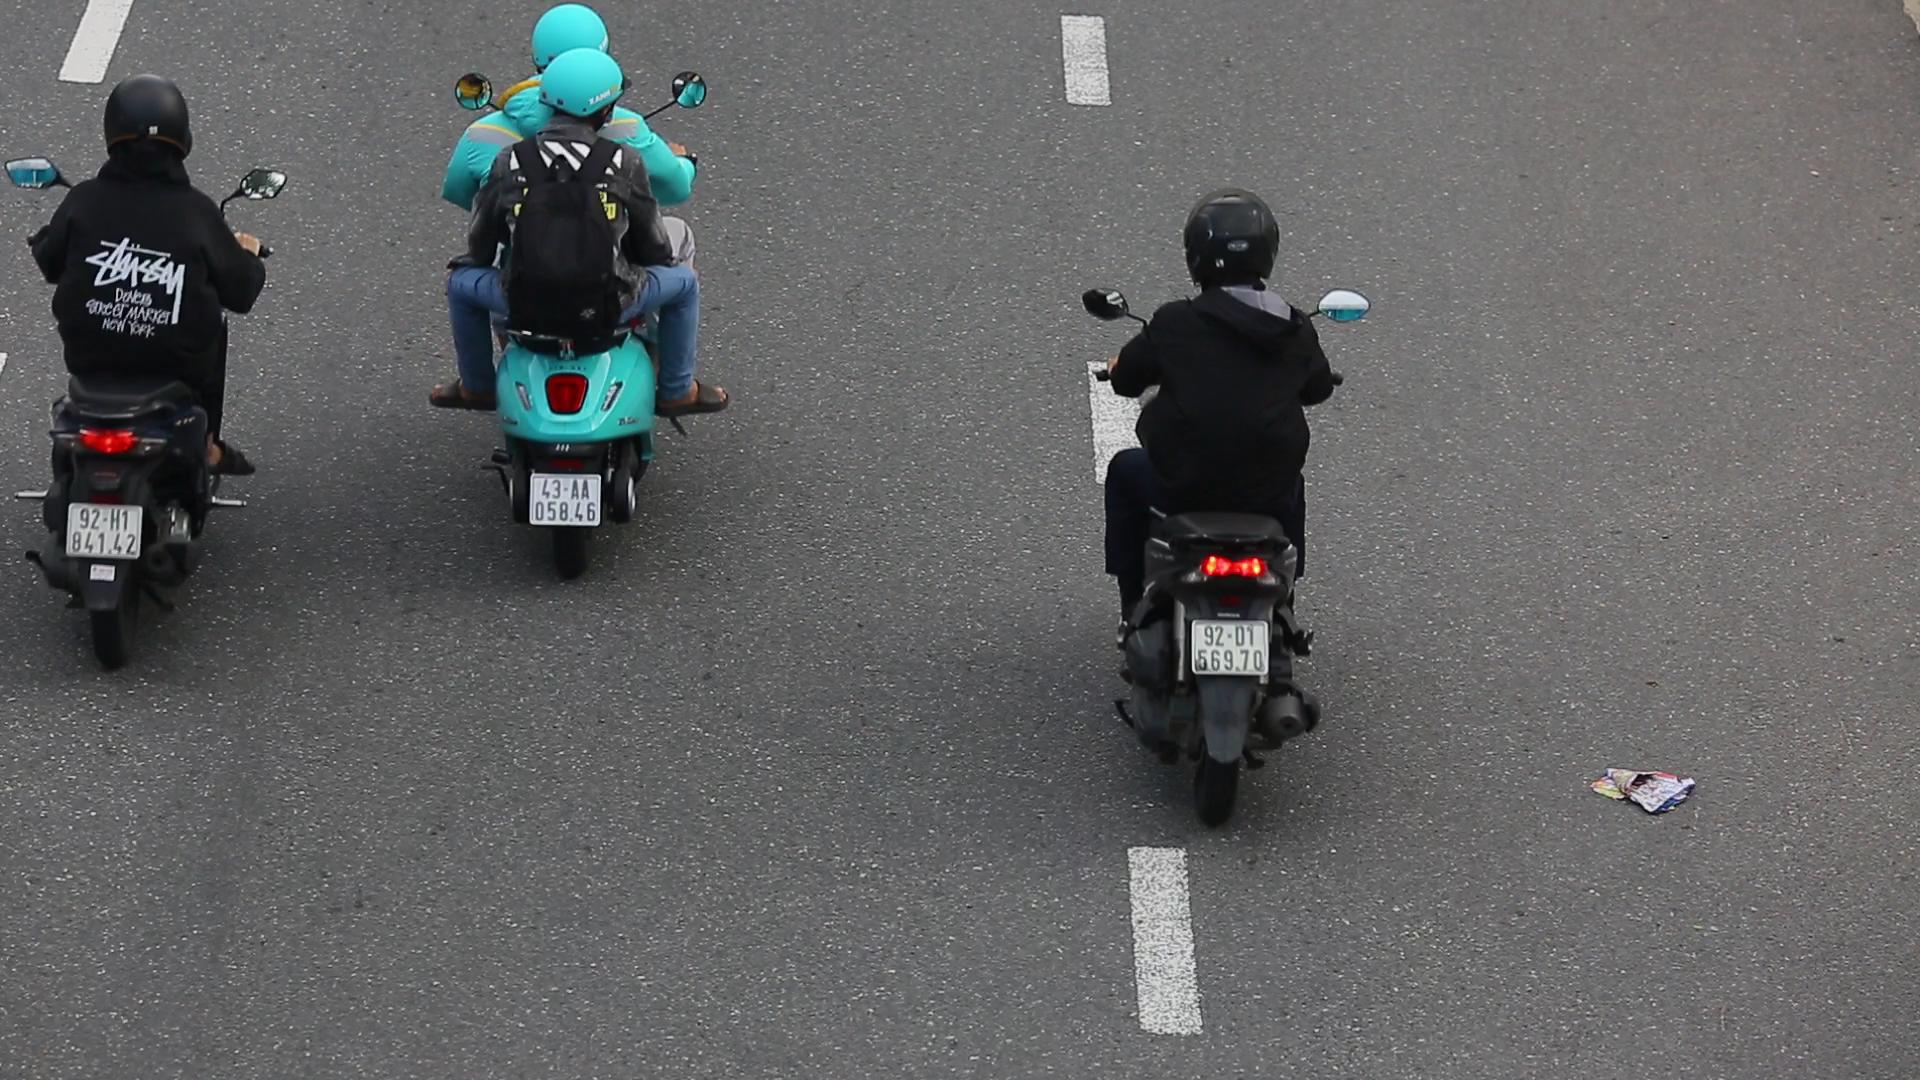motobike: (1085, 191, 1364, 833), (433, 4, 731, 592), (16, 66, 298, 676)
